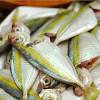Ikan Selar: (9, 28, 88, 87)
